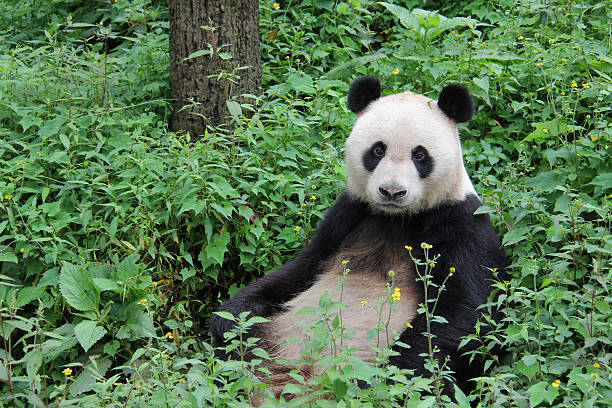panda: (314, 53, 516, 243)
